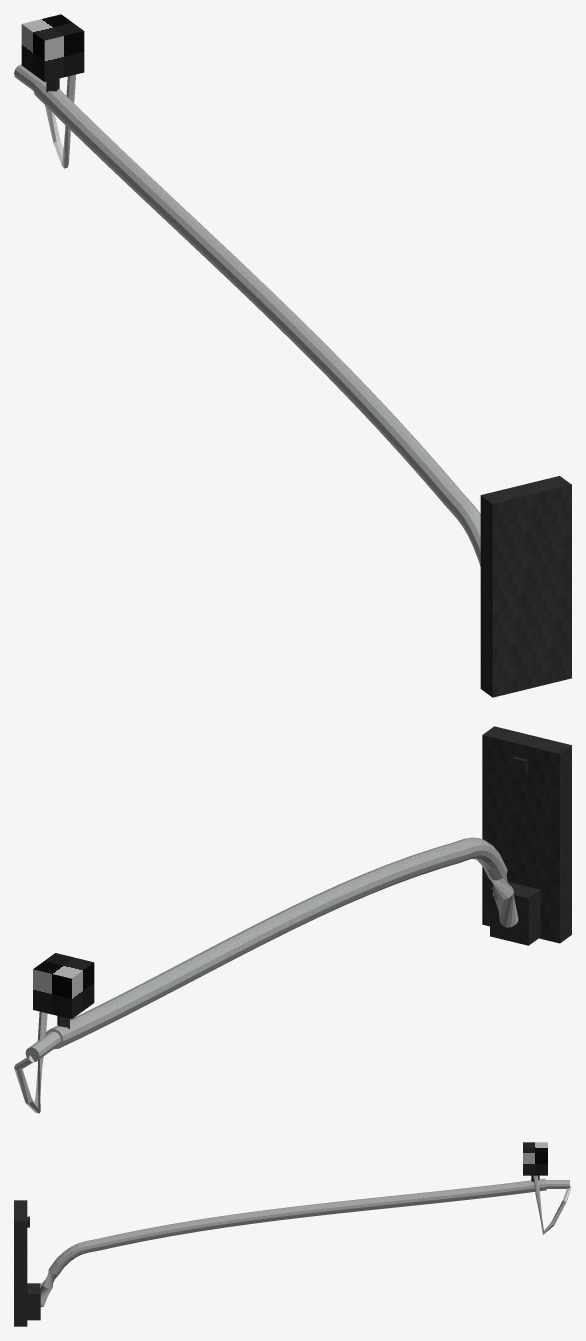
File: arm_4_straight_wired.obj
3 views of the same model, one above another, from view 1: azimuth 30°, elevation 25°; view 2: azimuth 150°, elevation 25°; view 3: azimuth 270°, elevation 25° (orthographic). The views are drawn at different scales.
Parts seen in each view (by area): view 1: pole_light_mount_4_straight_wired; view 2: pole_light_mount_4_straight_wired; view 3: pole_light_mount_4_straight_wired.
Boxes of the visible parts, x1,y1,x2,y2 form: pole_light_mount_4_straight_wired: (14,14,571,697); pole_light_mount_4_straight_wired: (14,726,571,1113); pole_light_mount_4_straight_wired: (14,1142,571,1326).
Size of the model in its own units: 0.375 by 1.4 by 4.2.
